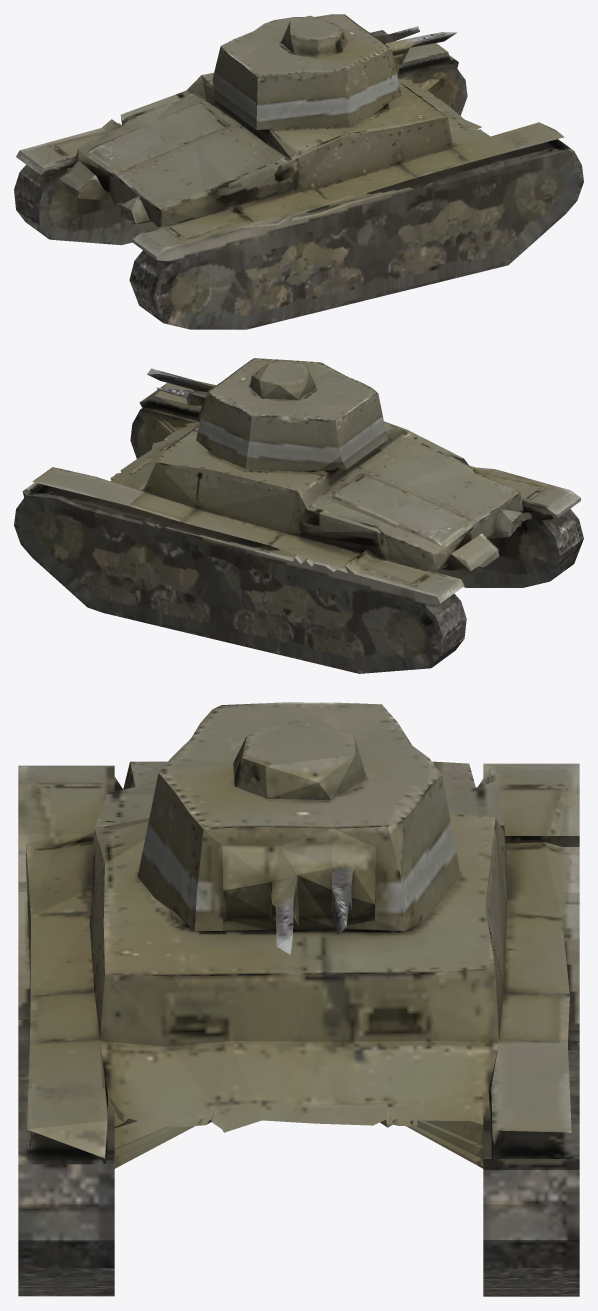
Rendered from both.obj.
The picture shows the model from 3 angles, top to bottom: view 1: azimuth 30°, elevation 25°; view 2: azimuth 150°, elevation 25°; view 3: azimuth 270°, elevation 25°; orthographic projection. The views are drawn at different scales.
Visible parts, largest first — view 1: turret.obj; view 2: turret.obj; view 3: turret.obj.
Part boxes in pixels (x1,y1,x2,y2): turret.obj: [14, 14, 583, 329]; turret.obj: [14, 358, 583, 673]; turret.obj: [18, 702, 579, 1296].
Size of the model in its own units: 1.01 by 0.4842 by 0.57.
Materials: 1 (1 with a texture image).
